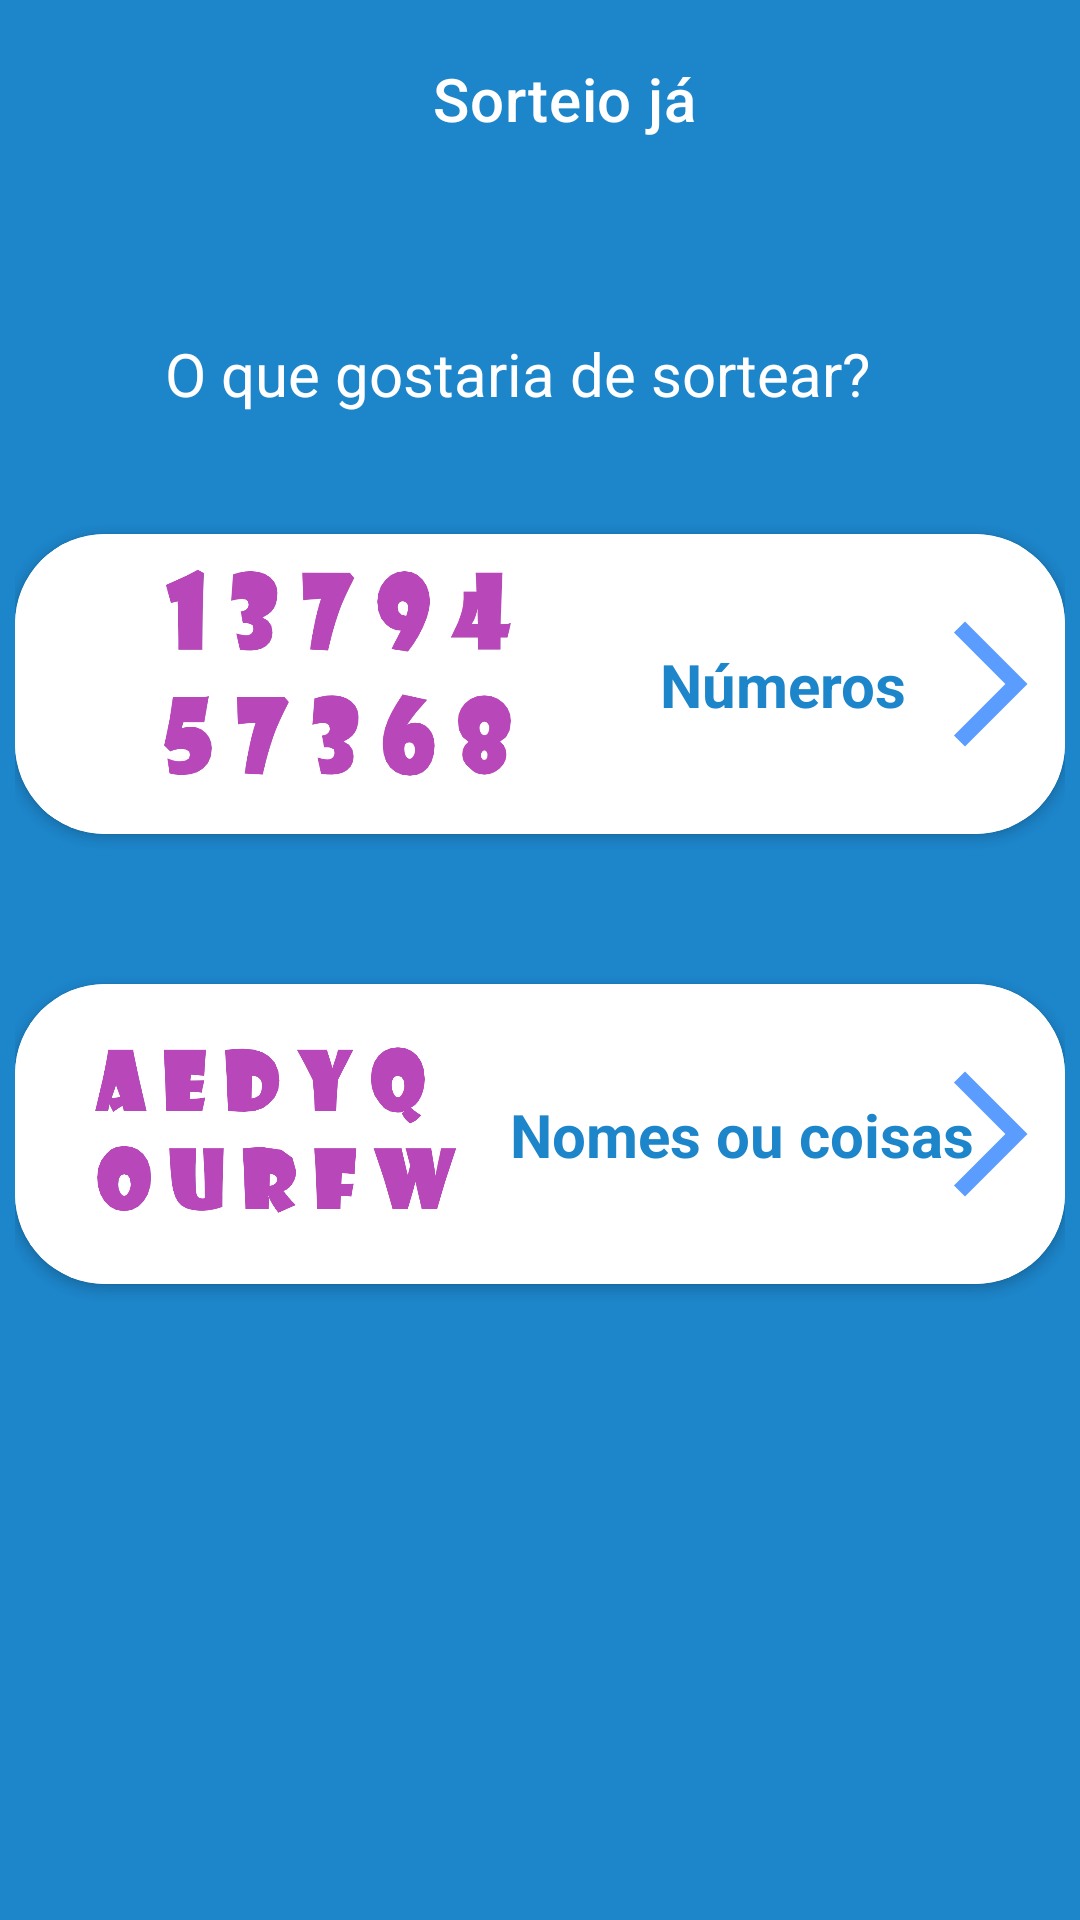

Named icons in this screenshot (1080x1920) and their bounding boxes, (x1, y1, x2, y2):
numeros aleatorios: (164, 570, 511, 776)
